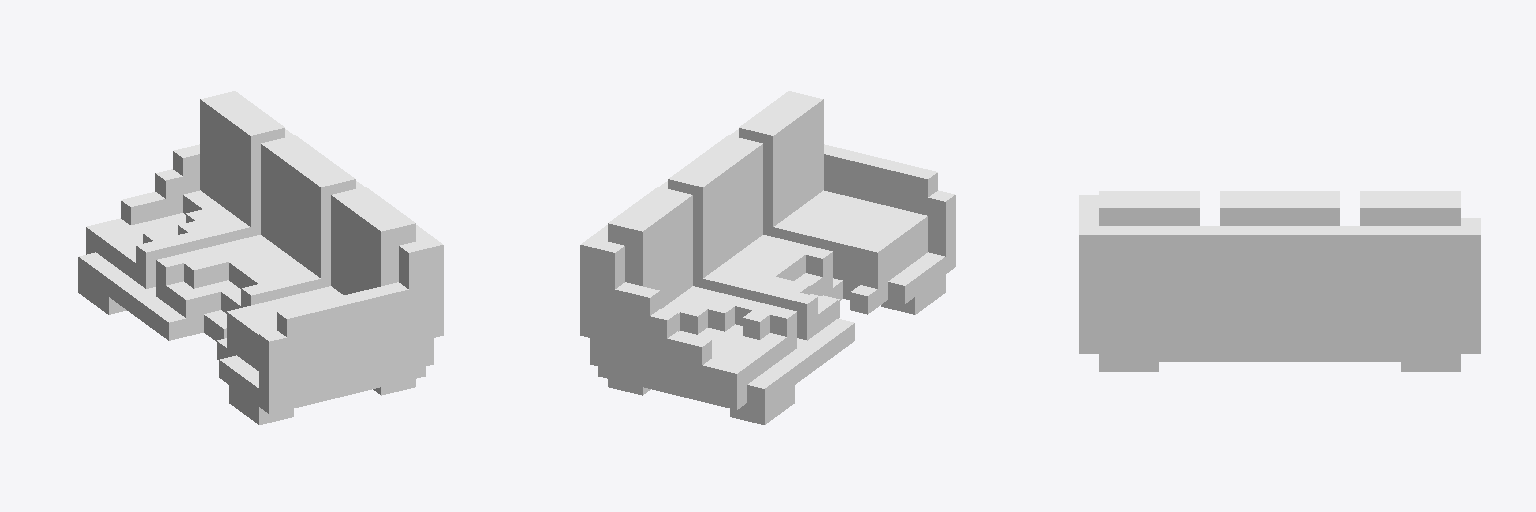
File: Cannapé(Battle-Scarred).obj
The picture shows the model from 3 angles: view 1: azimuth 30°, elevation 25°; view 2: azimuth 150°, elevation 25°; view 3: azimuth 270°, elevation 25°; orthographic projection.
Visible parts, largest first — view 1: object 1; view 2: object 1; view 3: object 1.
Boxes of the visible parts, x1,y1,x2,y2 form: object 1: [78, 91, 443, 424]; object 1: [580, 91, 955, 424]; object 1: [1079, 191, 1480, 371].
Bounding box in the file's own units: 1 × 0.9 × 2.